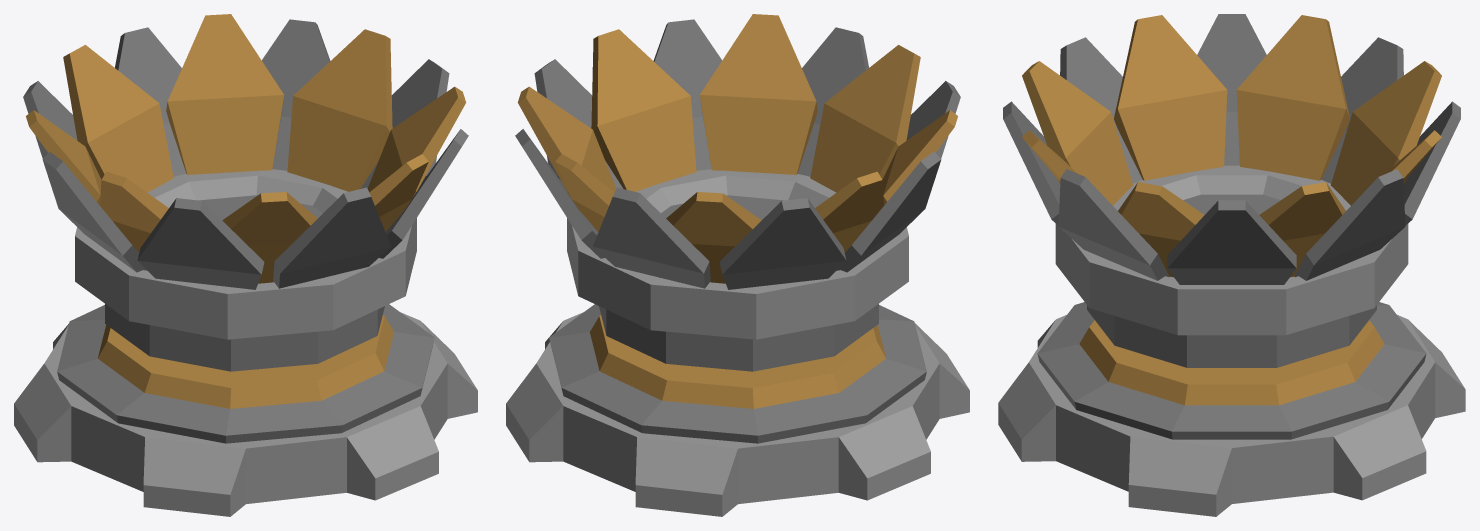
The model's file is props-teleporter-1.glb.
3 renders of one model, left to right at view 1: azimuth 30°, elevation 25°; view 2: azimuth 150°, elevation 25°; view 3: azimuth 270°, elevation 25°, orthographic.
Parts seen in each view (by area): view 1: Props_Teleporter_1; view 2: Props_Teleporter_1; view 3: Props_Teleporter_1.
Boxes of the visible parts, box(x1,y1,x2,y2) form: Props_Teleporter_1: box(14, 14, 477, 516); Props_Teleporter_1: box(506, 14, 969, 516); Props_Teleporter_1: box(998, 14, 1465, 516).
Bounding box in the file's own units: 1.21 × 0.9045 × 1.21.
